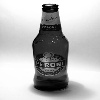beer: (27, 3, 72, 90)
